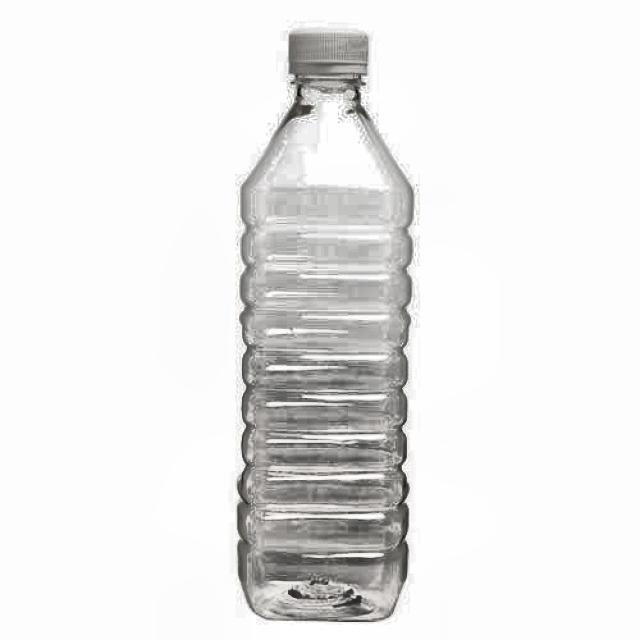Bottles: (225, 20, 427, 626)
